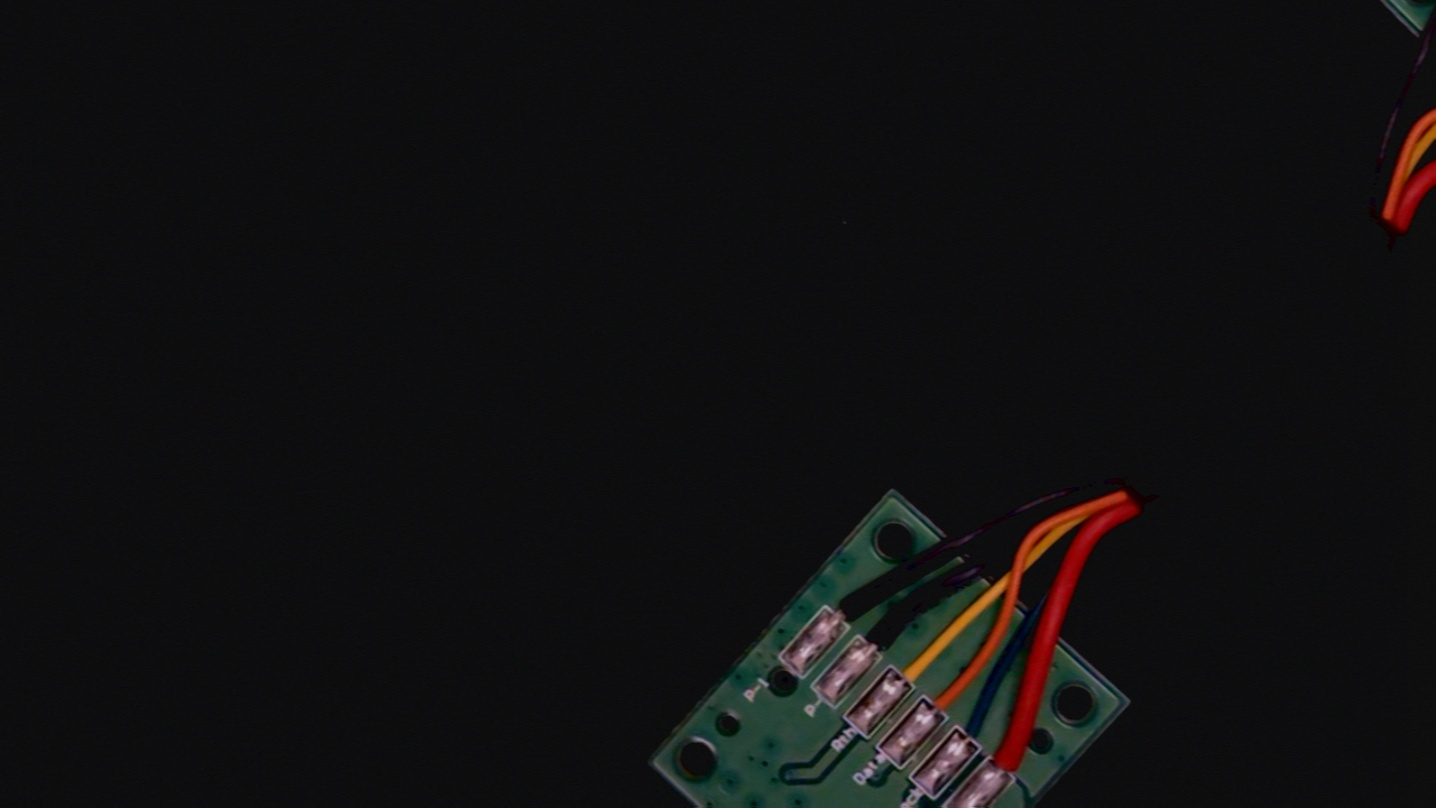Black: (846, 596, 923, 674)
Black1: (810, 563, 888, 643)
Green: (942, 689, 1016, 764)
Orange: (909, 662, 982, 736)
Red: (976, 711, 1058, 795)
Yellow: (877, 630, 952, 706)
